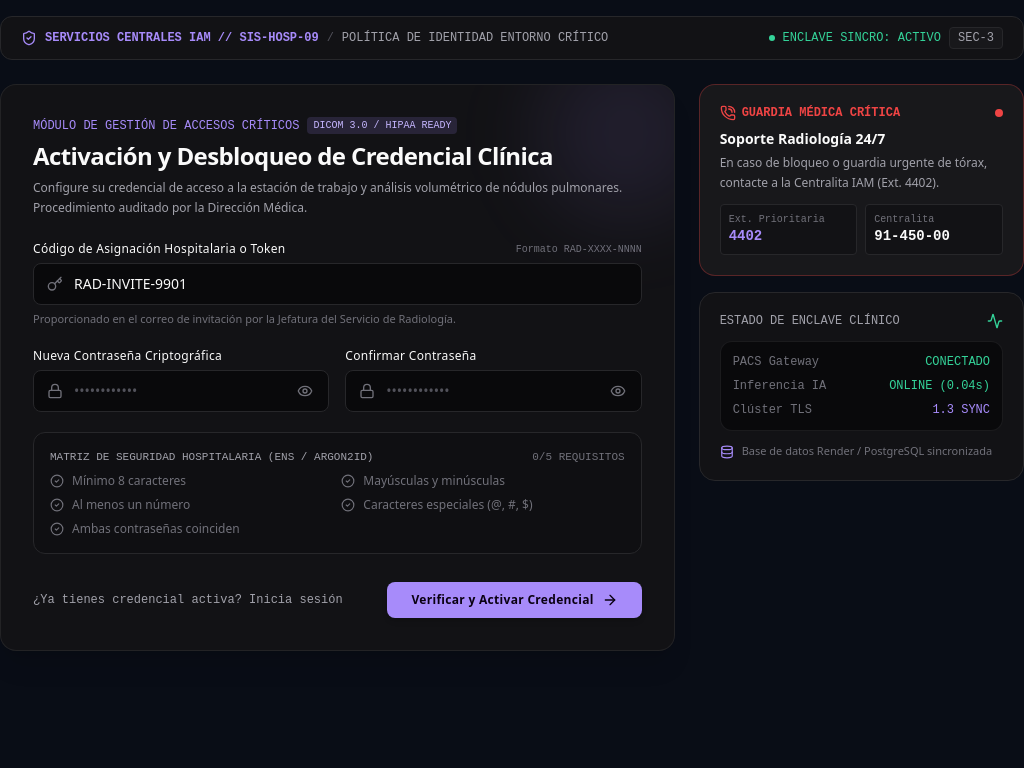
ActivateAccountPage Component › submits valid activation payload and shows success card
Type "HospitalRadiology2026!" into the password field labelled "Nueva Contraseña Criptográfica".
click(181, 391); type("HospitalRadiology2026!")  # box [33,370,329,412]
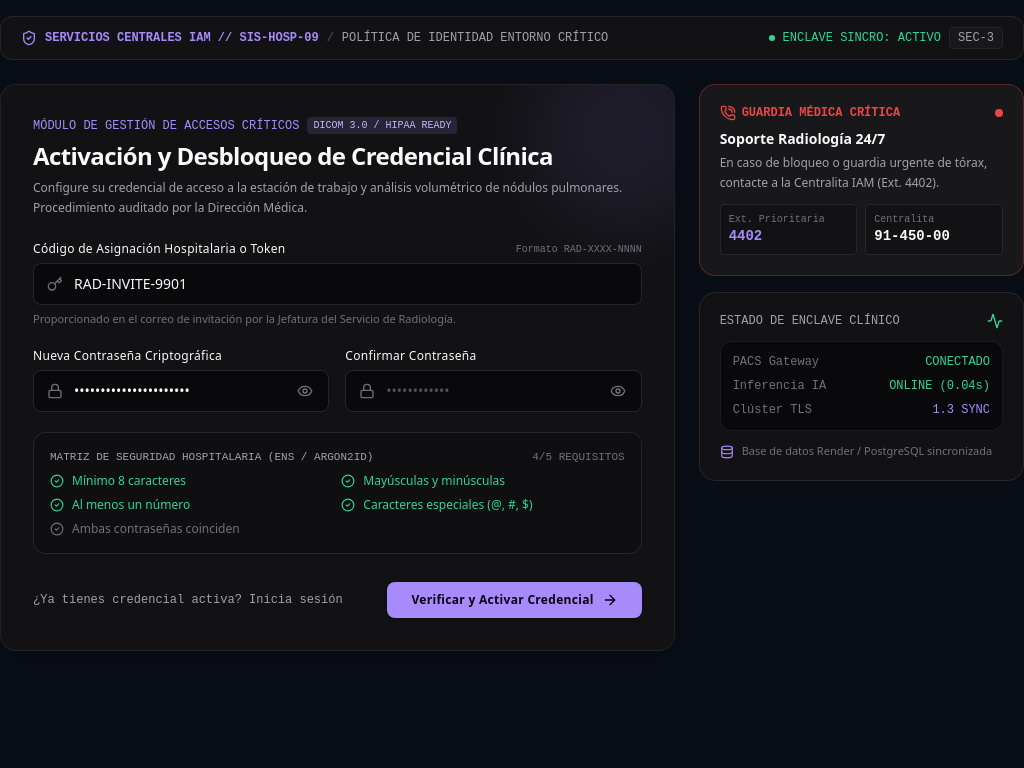
Type "HospitalRadiology2026!" into the password field labelled "Confirmar Contraseña".
click(493, 391); type("HospitalRadiology2026!")  # box [345,370,642,412]
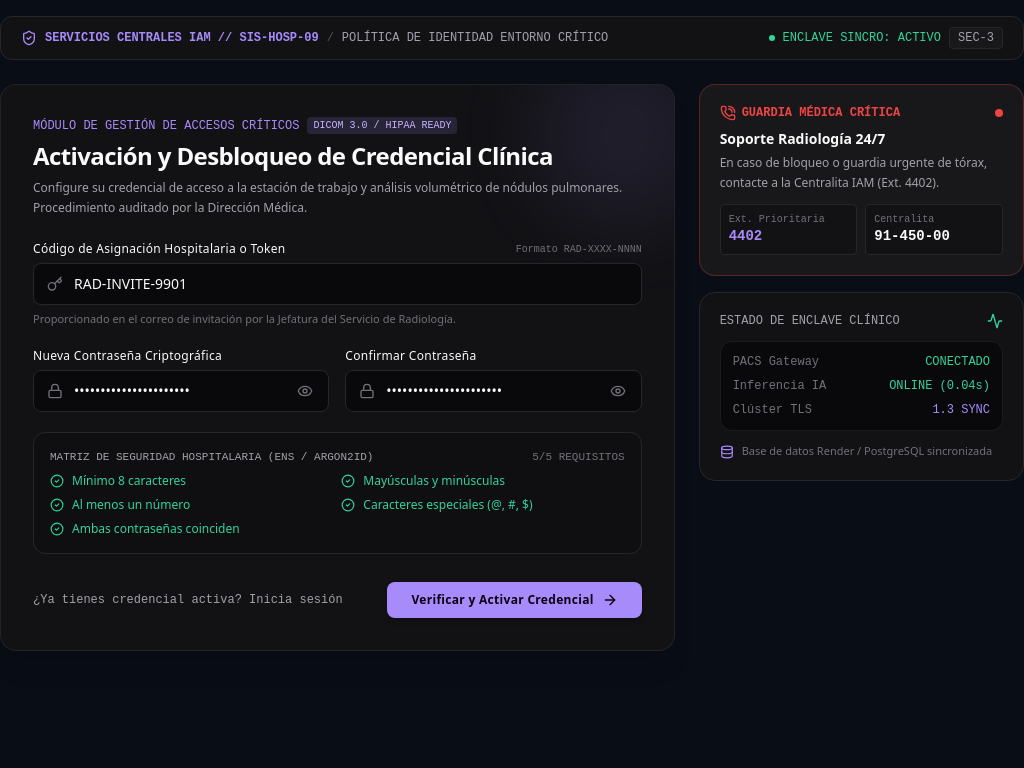
Click the button "Verificar y Activar Credencial".
click(514, 600)  # box [387,582,642,618]
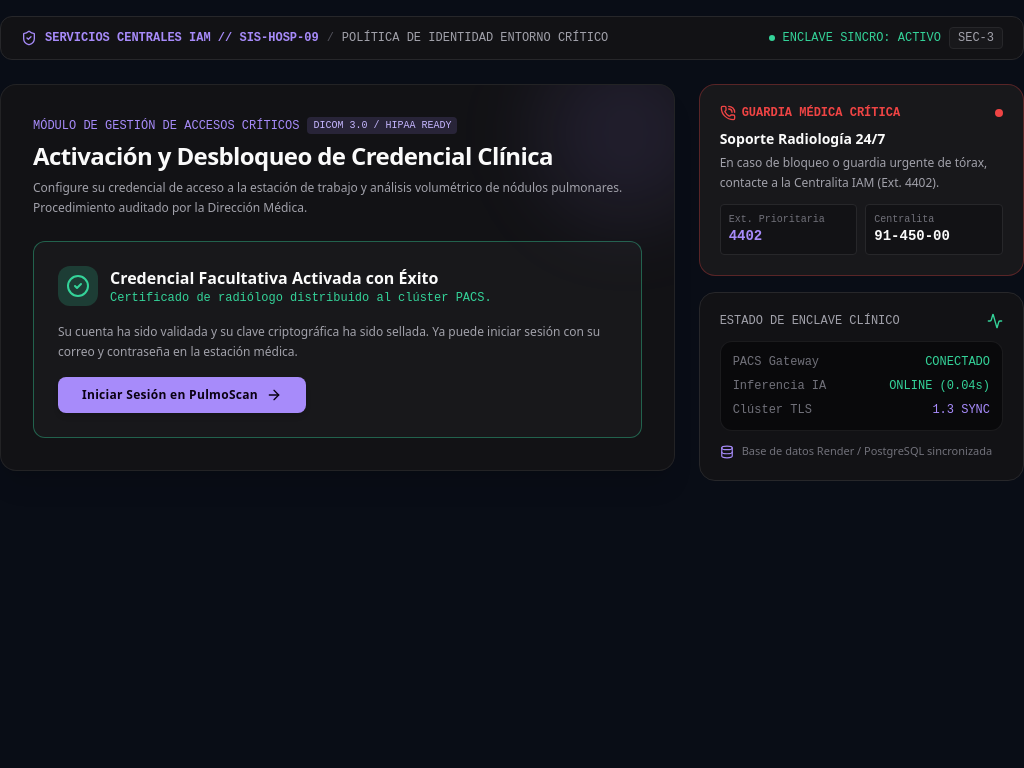
Now the heading "Credencial Facultativa Activada con Éxito" is shown, box [110,266,492,290]
